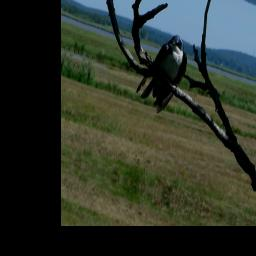Swallow: (132, 21, 193, 123)
